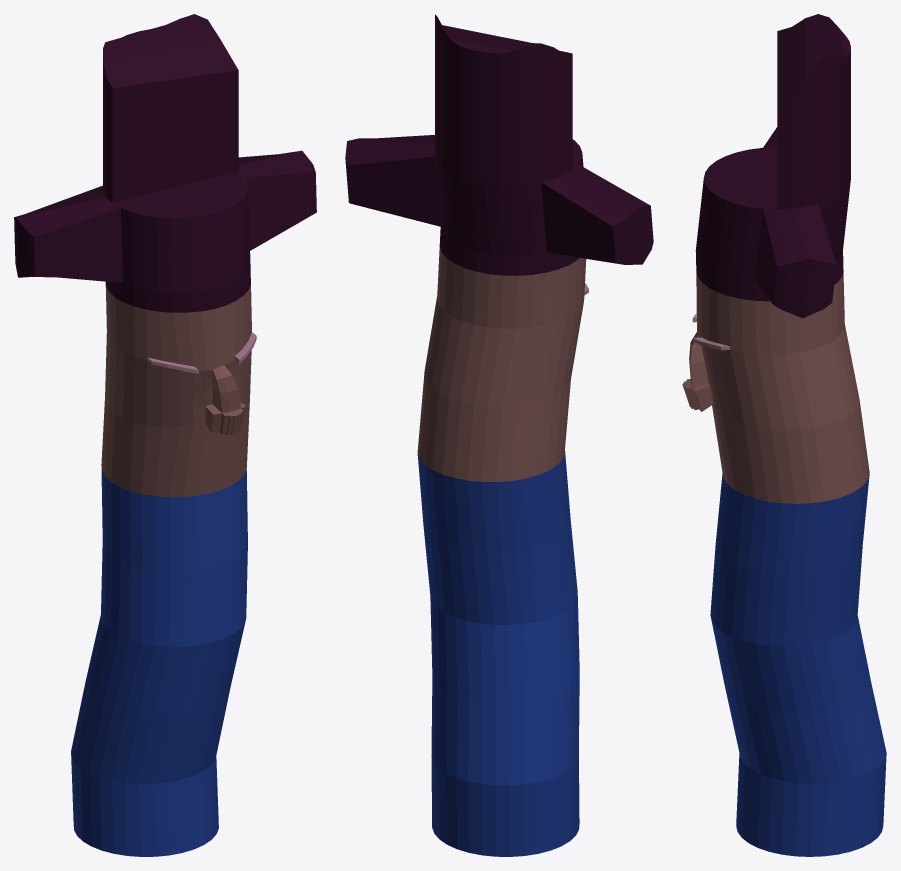
File: Jangseung.fbx
The picture shows the model from 3 angles, left to right: view 1: azimuth 30°, elevation 25°; view 2: azimuth 150°, elevation 25°; view 3: azimuth 270°, elevation 25°; orthographic projection.
Parts seen in each view (by area): view 1: Cylinder; view 2: Cylinder; view 3: Cylinder.
Boxes of the visible parts, x1,y1,x2,y2 form: Cylinder: [14, 14, 316, 856]; Cylinder: [345, 14, 653, 856]; Cylinder: [682, 14, 886, 856].
Bounding box in the file's own units: 1.42 × 3.73 × 0.8626.
